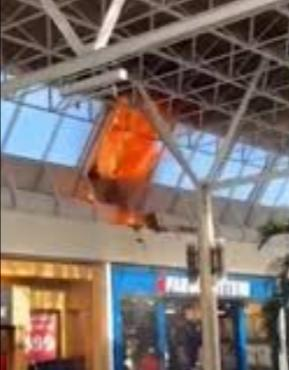fire: (90, 96, 177, 226)
